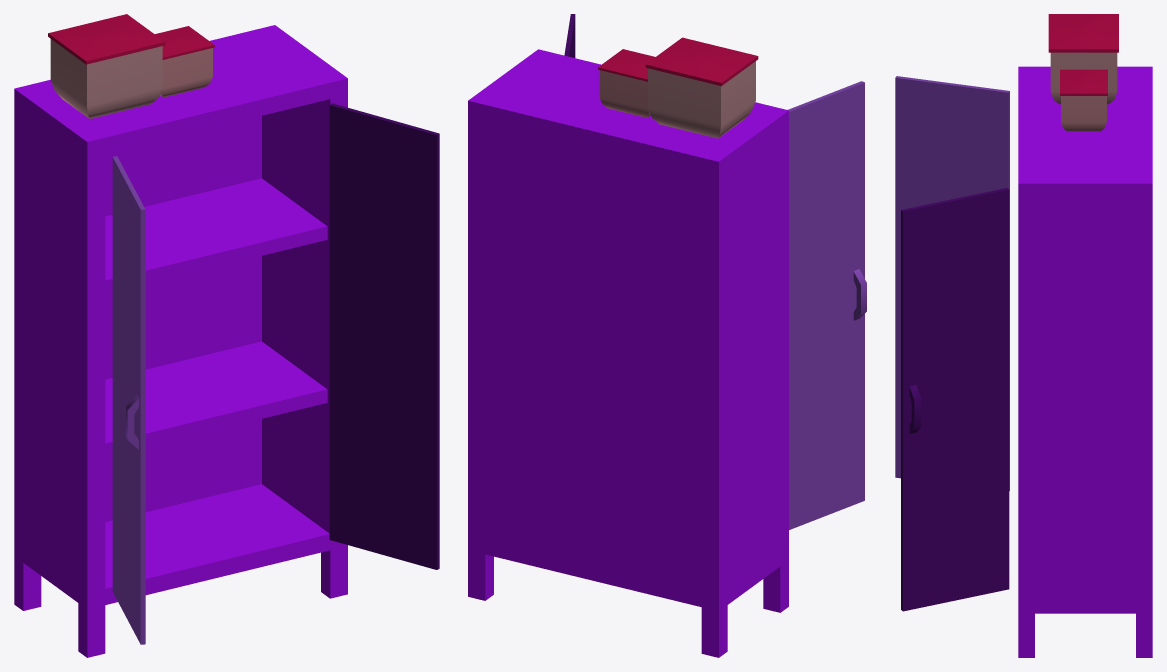
File: INTE_Armario_Comprido.fbx
The picture shows the model from 3 angles, left to right: view 1: azimuth 30°, elevation 25°; view 2: azimuth 150°, elevation 25°; view 3: azimuth 270°, elevation 25°; orthographic projection. The views are drawn at different scales.
Parts seen in each view (by area): view 1: armario_estrutura, armario_Porta_D, armario_Porta_E, PoteEstrutura (×2), TampaPote (×2); view 2: armario_estrutura, armario_Porta_E, PoteEstrutura (×2), TampaPote (×2); view 3: armario_estrutura, armario_Porta_D, armario_Porta_E, TampaPote (×2), PoteEstrutura (×2).
Part boxes in pixels (box(x1,y1,x2,y2)): armario_estrutura: box(14, 25, 347, 657); armario_Porta_D: box(329, 103, 439, 569); armario_Porta_E: box(112, 156, 145, 644); PoteEstrutura (×2): box(50, 39, 212, 118); TampaPote (×2): box(48, 14, 214, 64); armario_estrutura: box(468, 49, 788, 657); armario_Porta_E: box(788, 81, 866, 529); PoteEstrutura (×2): box(599, 61, 755, 138); TampaPote (×2): box(598, 37, 758, 86); armario_estrutura: box(1018, 66, 1152, 657); armario_Porta_D: box(901, 188, 1009, 611); armario_Porta_E: box(895, 76, 1009, 490); TampaPote (×2): box(1048, 14, 1118, 95); PoteEstrutura (×2): box(1050, 52, 1117, 131).
Size of the model in its own units: 11.96 by 21.09 by 9.18.
